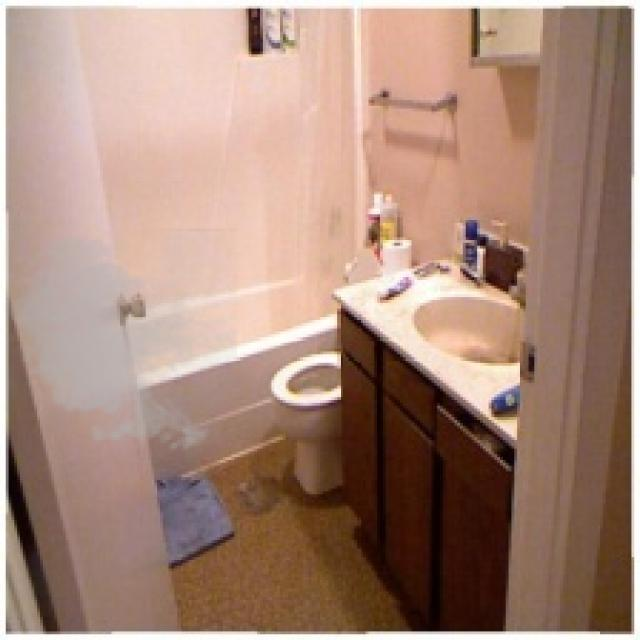Smoke: (0, 229, 237, 457)
